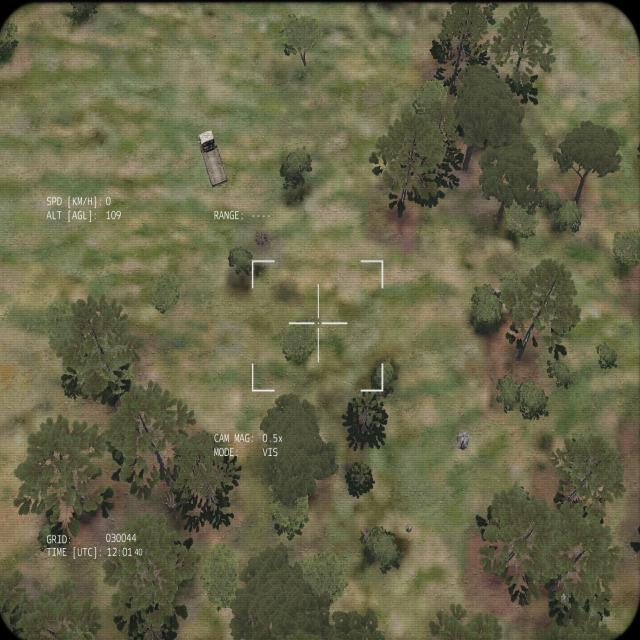truck: (197, 129, 228, 187)
